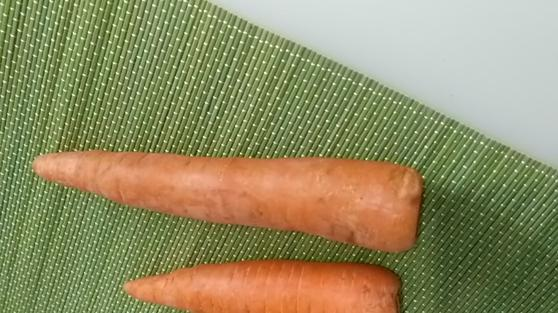carrot: (35, 147, 422, 253), (118, 260, 399, 313)
